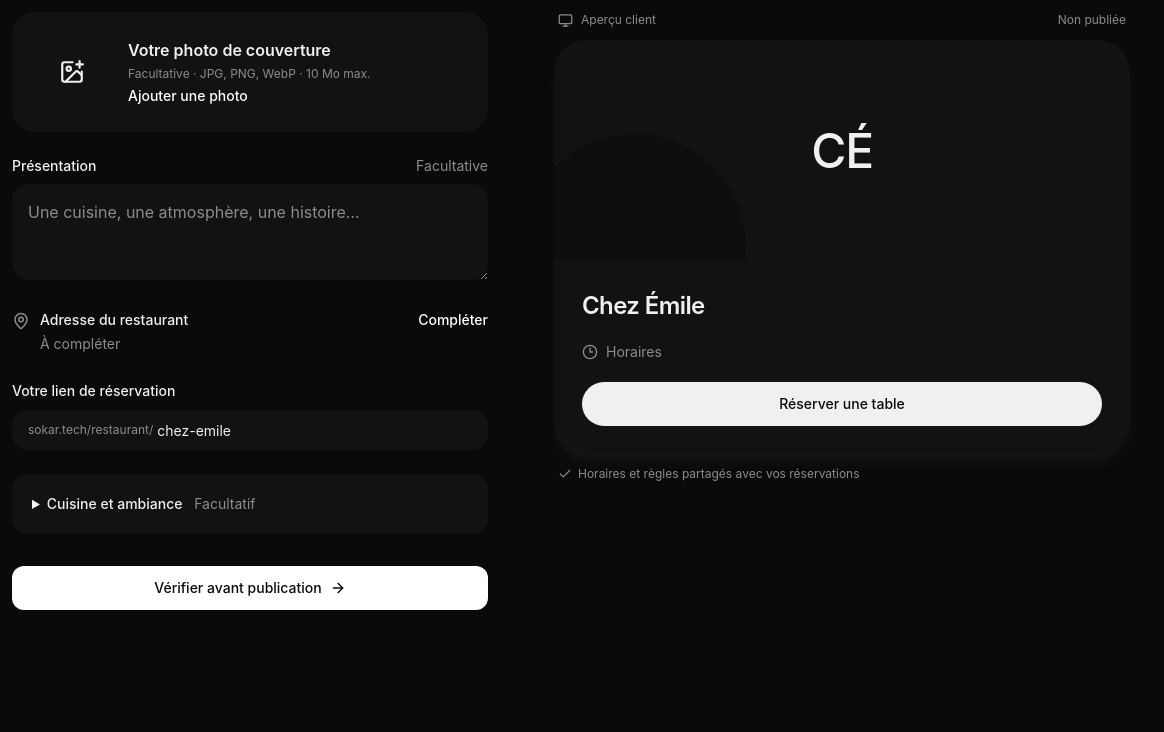
Test: demande une adresse manquante dans l’éditeur
This screenshot has width=1164, height=732.
Click the button "Vérifier avant publication" at {"x": 250, "y": 588}, box [12,566,488,610]
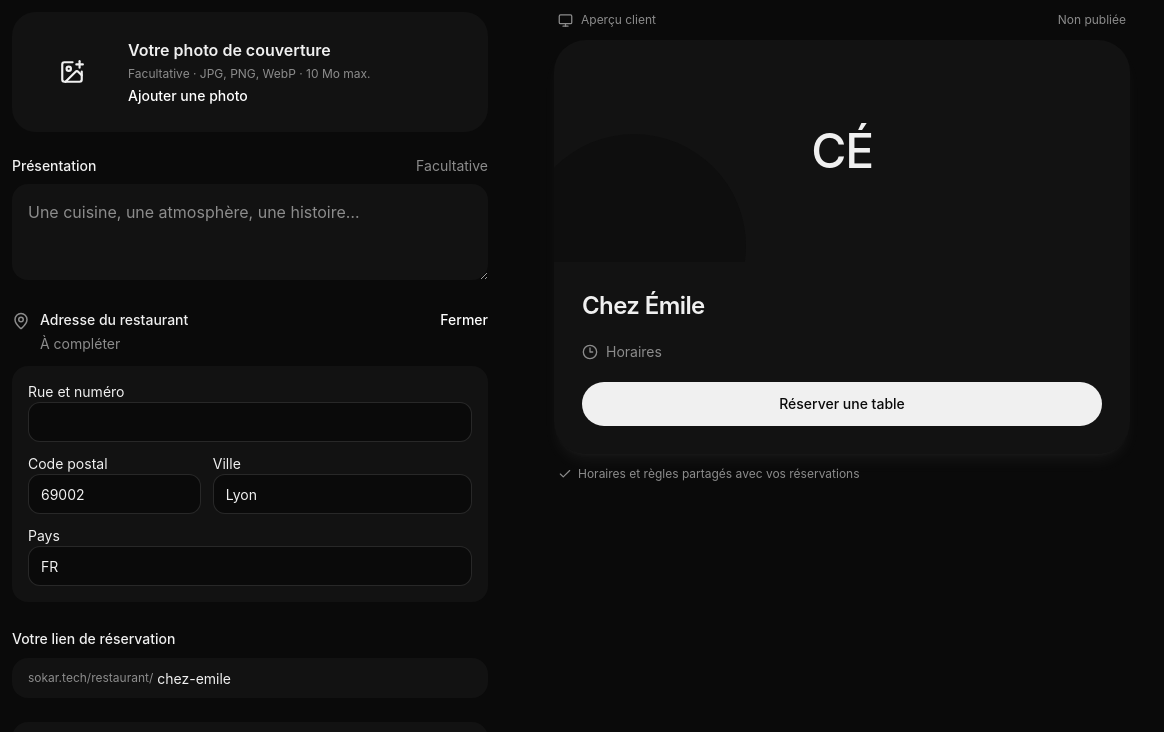
Now the field labelled "Rue et numéro" is shown, box [28,402,472,442]
